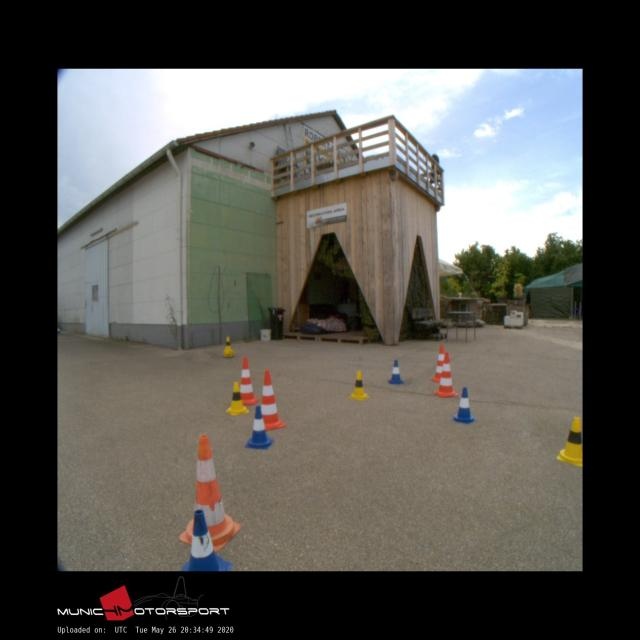blue_cone: (182, 509, 233, 571), (244, 406, 273, 448), (451, 387, 475, 422), (388, 359, 403, 383)
large_orange_cone: (184, 434, 236, 521), (258, 370, 284, 429), (434, 352, 459, 396), (237, 356, 258, 404), (431, 344, 446, 382)
yellow_cone: (556, 416, 582, 465), (226, 381, 248, 414), (348, 370, 368, 399), (223, 337, 233, 351)
